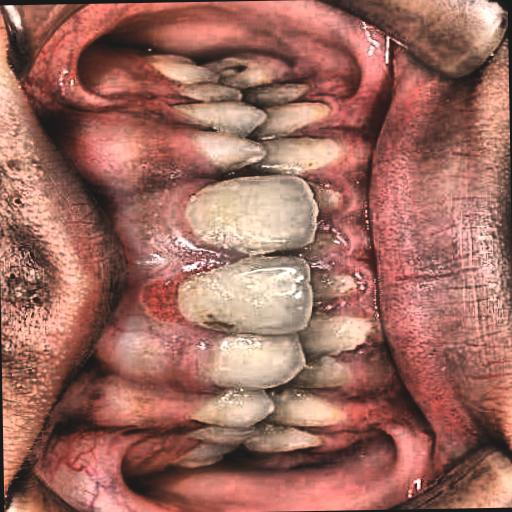Gingivitis: (126, 242, 219, 368)
